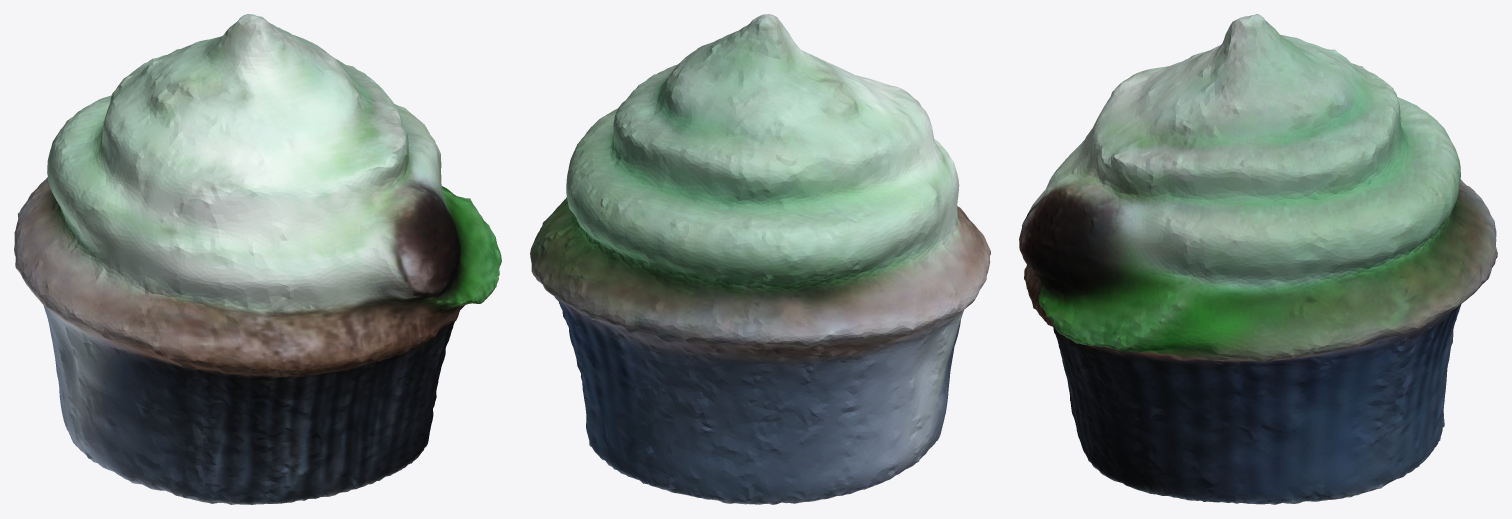
File: chocolatecake.glb
3 views of the same model, side by side, from view 1: azimuth 30°, elevation 25°; view 2: azimuth 150°, elevation 25°; view 3: azimuth 270°, elevation 25° (orthographic).
Size of the model in its own units: 0.9394 by 0.9447 by 0.9632.
Materials: 1 (1 with a texture image).
